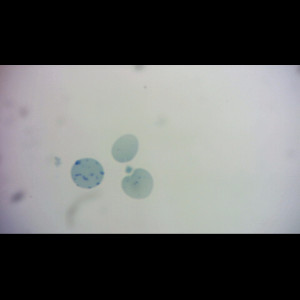aggregate reticulocyte: (70, 157, 105, 190)
erythrocyte: (110, 133, 141, 164)
punctate reticulocyte: (119, 166, 155, 201)
